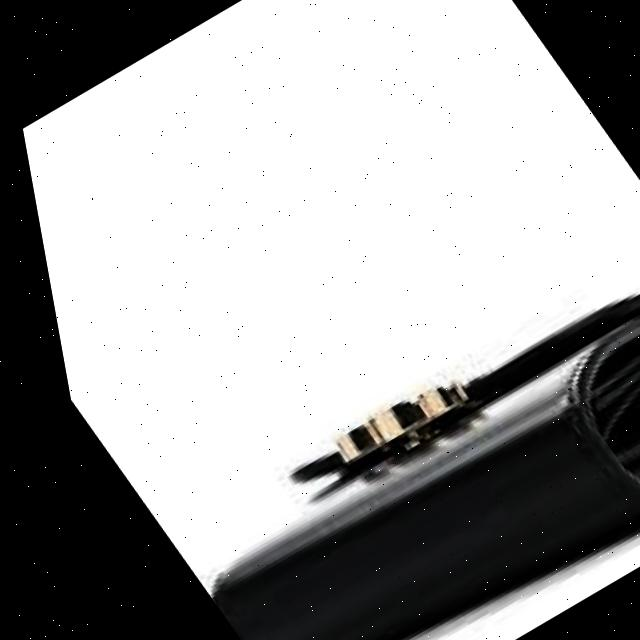cuzdan: (94, 218, 640, 640)
